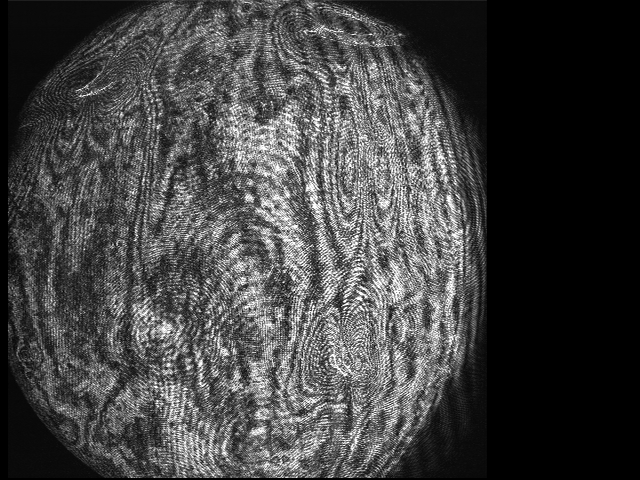plume: (296, 297, 382, 396)
